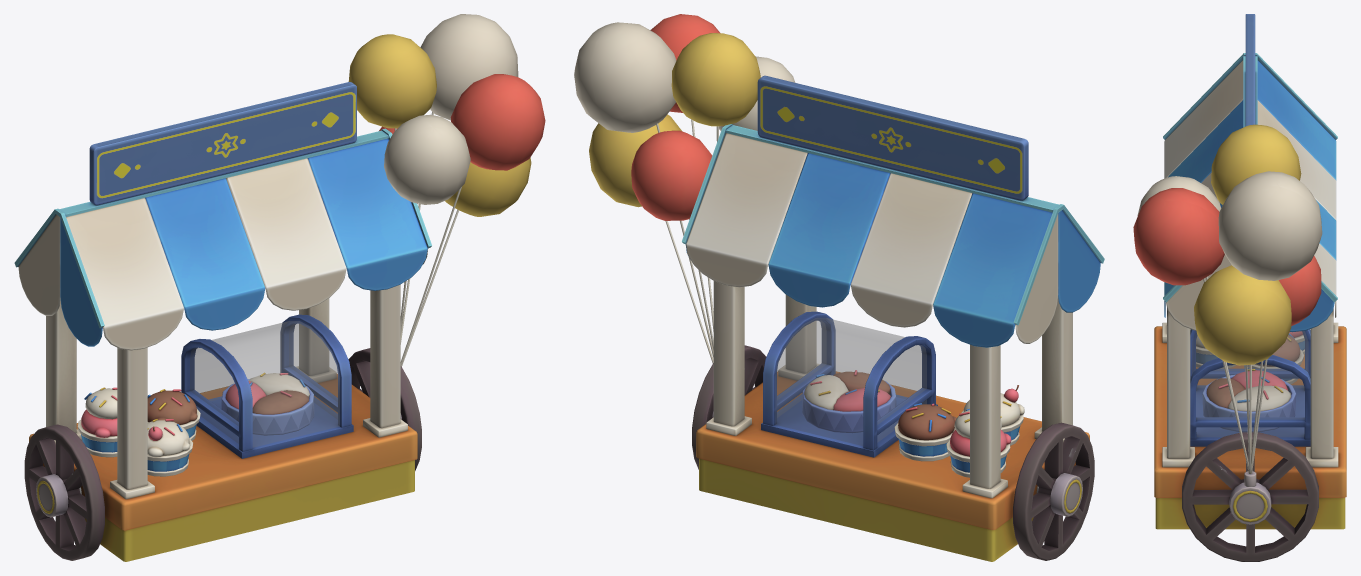
File: TownStall_01.fbx
3 views of the same model, side by side, from view 1: azimuth 30°, elevation 25°; view 2: azimuth 150°, elevation 25°; view 3: azimuth 270°, elevation 25° (orthographic).
Parts seen in each view (by area): view 1: TownStall_01; view 2: TownStall_01; view 3: TownStall_01.
Boxes of the visible parts, x1=… form: TownStall_01: x1=14, y1=14, x2=545, y2=561; TownStall_01: x1=574, y1=14, x2=1104, y2=561; TownStall_01: x1=1133, y1=14, x2=1346, y2=561.
Size of the model in its own units: 647 by 563 by 249.
